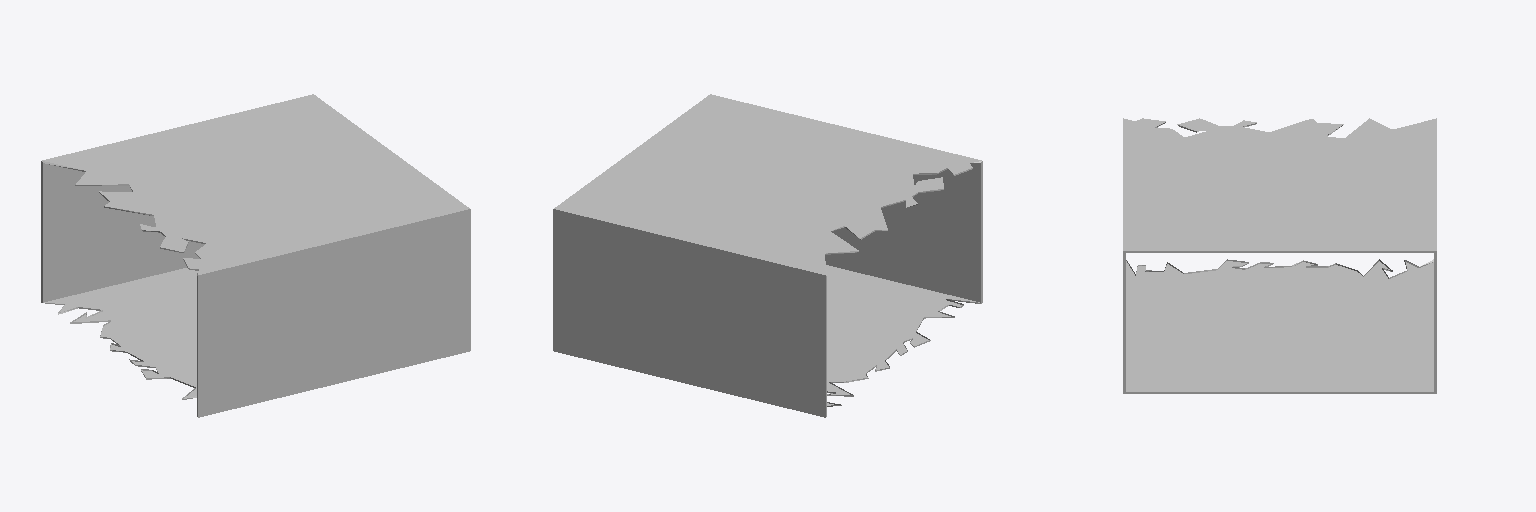
Rendered from Cuarto Fuera.obj.
The picture shows the model from 3 angles: view 1: azimuth 30°, elevation 25°; view 2: azimuth 150°, elevation 25°; view 3: azimuth 270°, elevation 25°; orthographic projection.
Parts seen in each view (by area): view 1: Cuarto_Fuera_Cube.004; view 2: Cuarto_Fuera_Cube.004; view 3: Cuarto_Fuera_Cube.004.
Boxes of the visible parts, x1,y1,x2,y2 form: Cuarto_Fuera_Cube.004: [41, 94, 470, 417]; Cuarto_Fuera_Cube.004: [553, 94, 982, 417]; Cuarto_Fuera_Cube.004: [1123, 118, 1436, 393].
Size of the model in its own units: 20 by 10 by 19.95.